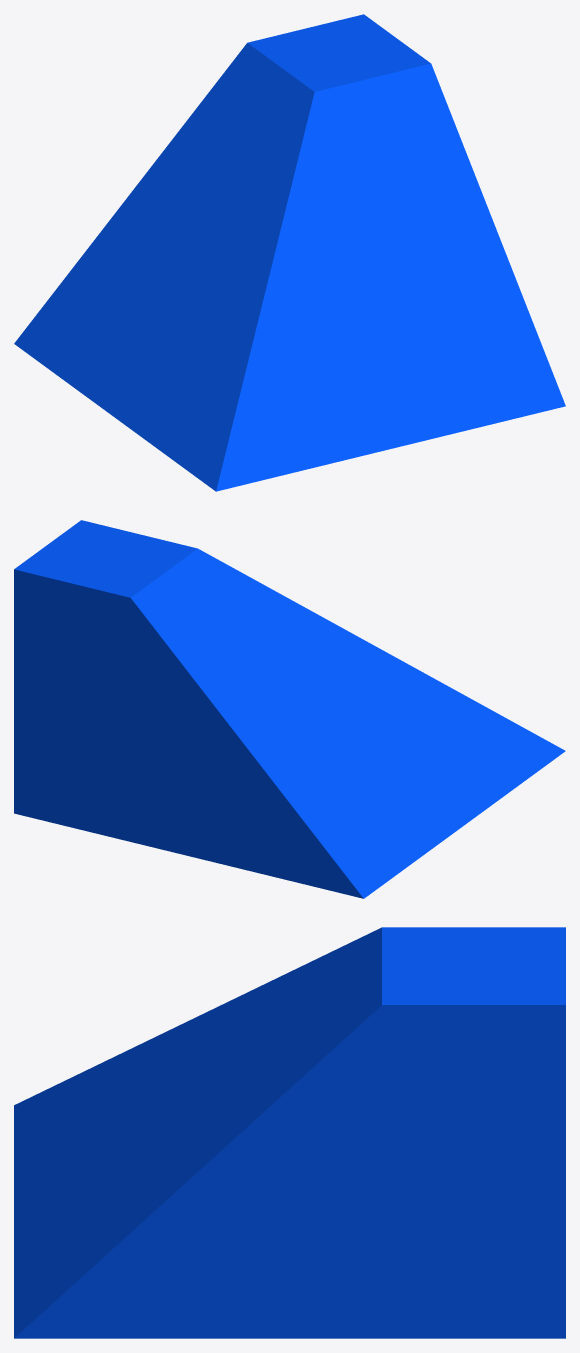
The model's file is COL_Floor-Stairs-Layered-Narrow-Corner-Convex.FBX.
3 renders of one model, top to bottom at view 1: azimuth 30°, elevation 25°; view 2: azimuth 150°, elevation 25°; view 3: azimuth 270°, elevation 25°, orthographic. The views are drawn at different scales.
Parts seen in each view (by area): view 1: COL_Floor-Stairs-Layered-Narrow-Corner-Convex; view 2: COL_Floor-Stairs-Layered-Narrow-Corner-Convex; view 3: COL_Floor-Stairs-Layered-Narrow-Corner-Convex.
Part boxes in pixels (x1,y1,x2,y2): COL_Floor-Stairs-Layered-Narrow-Corner-Convex: (14, 14, 565, 491); COL_Floor-Stairs-Layered-Narrow-Corner-Convex: (14, 520, 565, 898); COL_Floor-Stairs-Layered-Narrow-Corner-Convex: (14, 927, 565, 1338).
Bounding box in the file's own units: 15 × 10 × 15.
